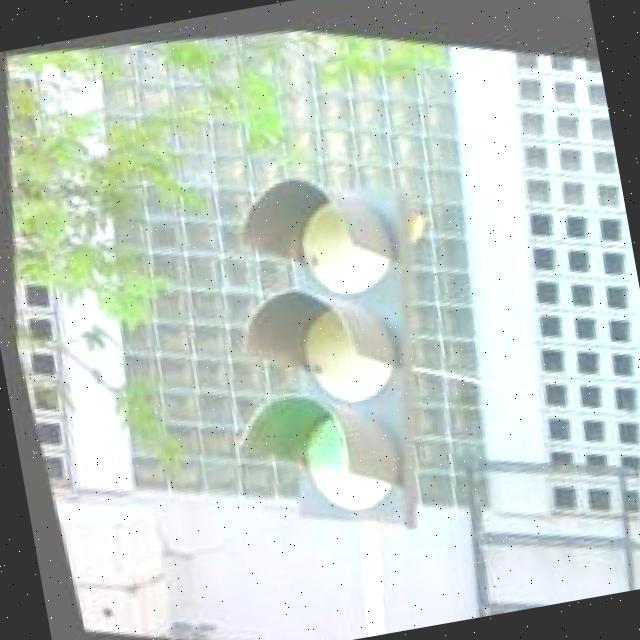green_light: (188, 139, 476, 552)
